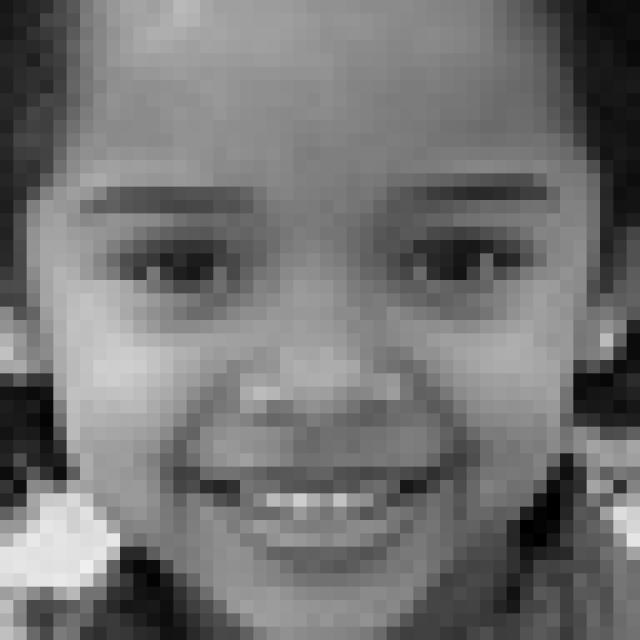happy: (77, 166, 558, 594)
